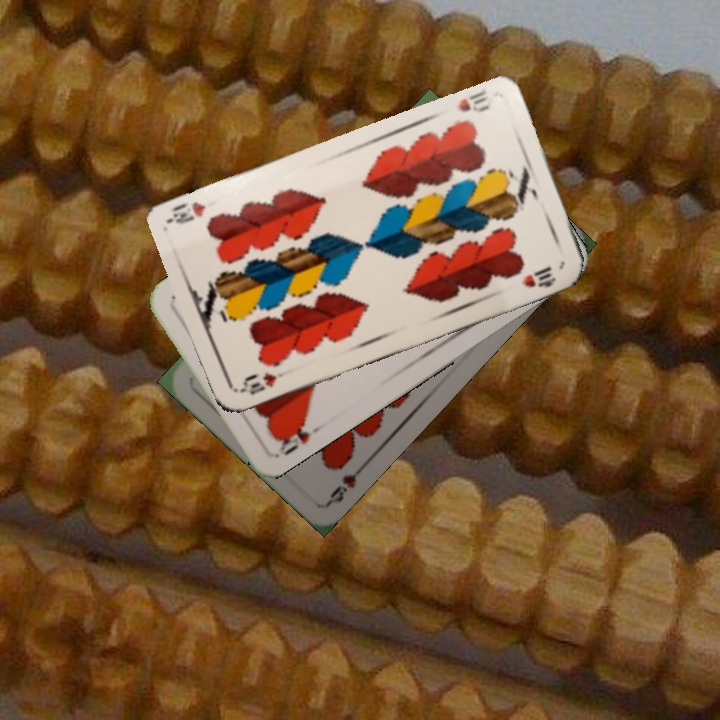H10: (235, 366, 291, 398), (454, 86, 492, 115)
H9: (324, 459, 370, 507)
HO: (273, 416, 325, 459)
